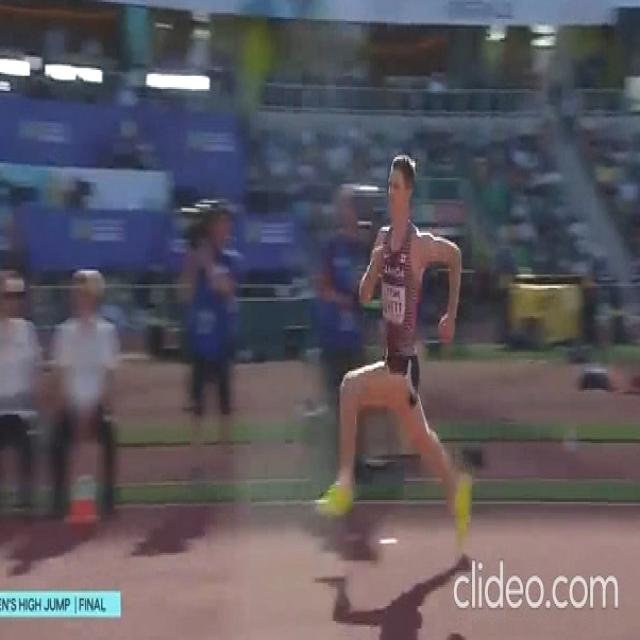run: (315, 157, 472, 537)
